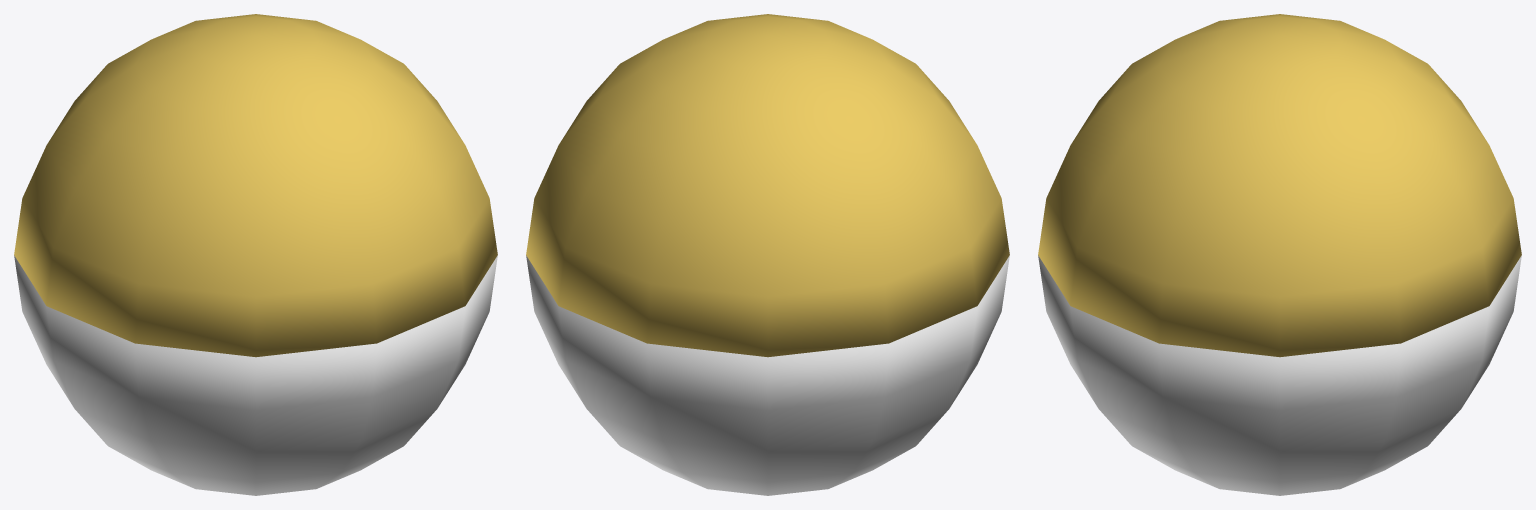
The model's file is capsuleToyCase.fbx.
The picture shows the model from 3 angles, left to right: view 1: azimuth 30°, elevation 25°; view 2: azimuth 150°, elevation 25°; view 3: azimuth 270°, elevation 25°; orthographic projection.
Visible parts, largest first — view 1: capsuleToy, capsuleToyCase W; view 2: capsuleToy, capsuleToyCase W; view 3: capsuleToy, capsuleToyCase W.
Part boxes in pixels (<box>): capsuleToy: <box>14,14,497,357</box>; capsuleToyCase W: <box>14,255,497,495</box>; capsuleToy: <box>526,14,1009,357</box>; capsuleToyCase W: <box>526,255,1009,495</box>; capsuleToy: <box>1038,14,1521,357</box>; capsuleToyCase W: <box>1038,255,1521,495</box>.
Bounding box in the file's own units: 14.4 × 14.4 × 14.4.
